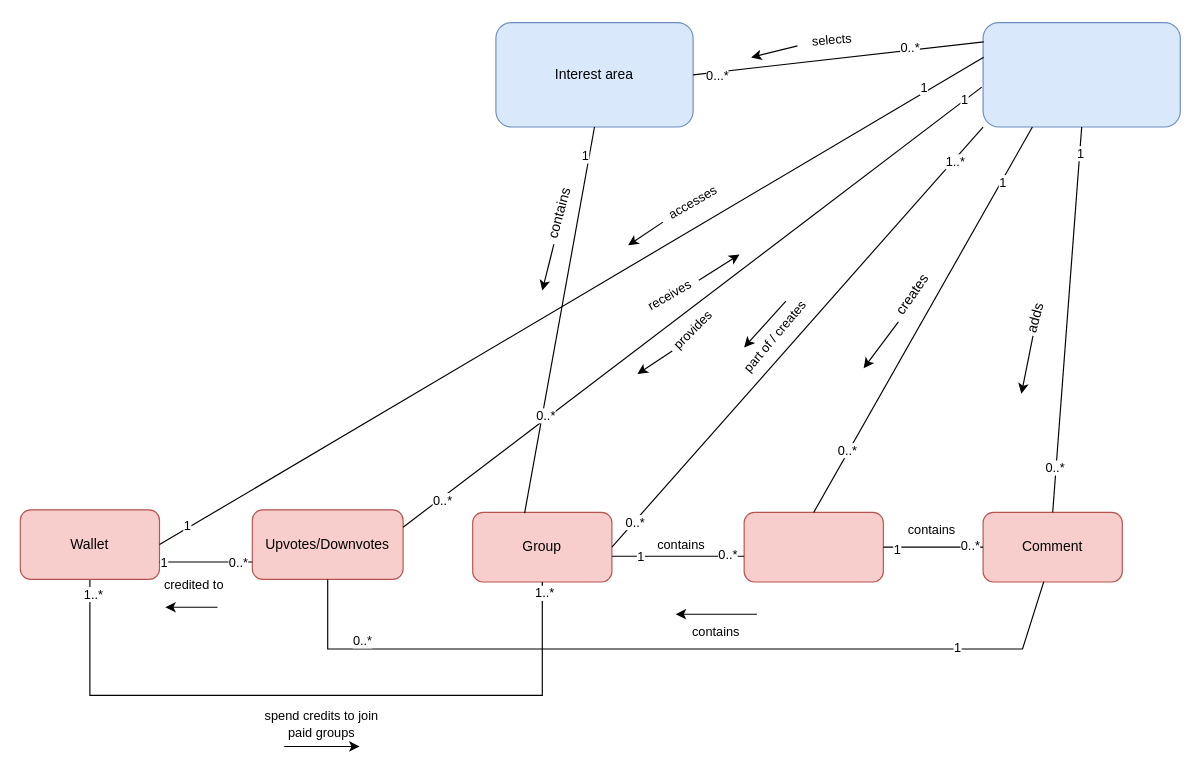
This 1201x777 diagram has some shape labels left out. The centre of each missing label's shape, as x and y in pixels:
Post: point 813,546
User: point 1081,74
